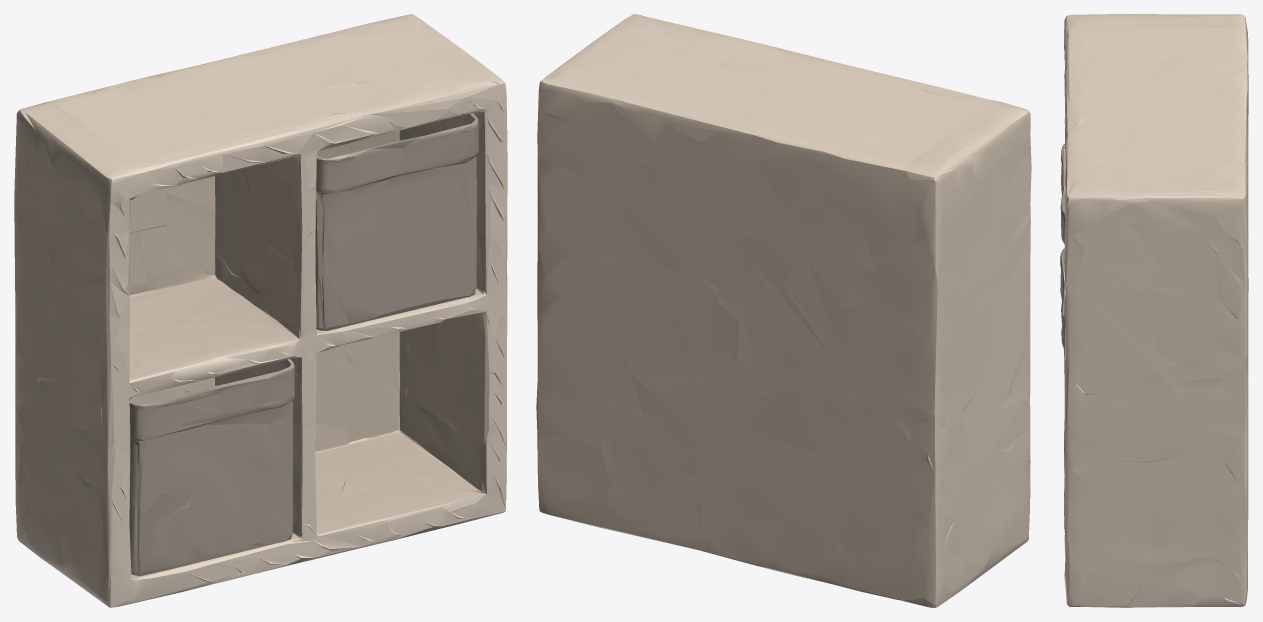
Rendered from raw_cube_storage.glb.
The picture shows the model from 3 angles, left to right: view 1: azimuth 30°, elevation 25°; view 2: azimuth 150°, elevation 25°; view 3: azimuth 270°, elevation 25°; orthographic projection. The views are drawn at different scales.
Size of the model in its own units: 1.84 by 1.9 by 0.7873.
Materials: 1 (1 with a texture image).
